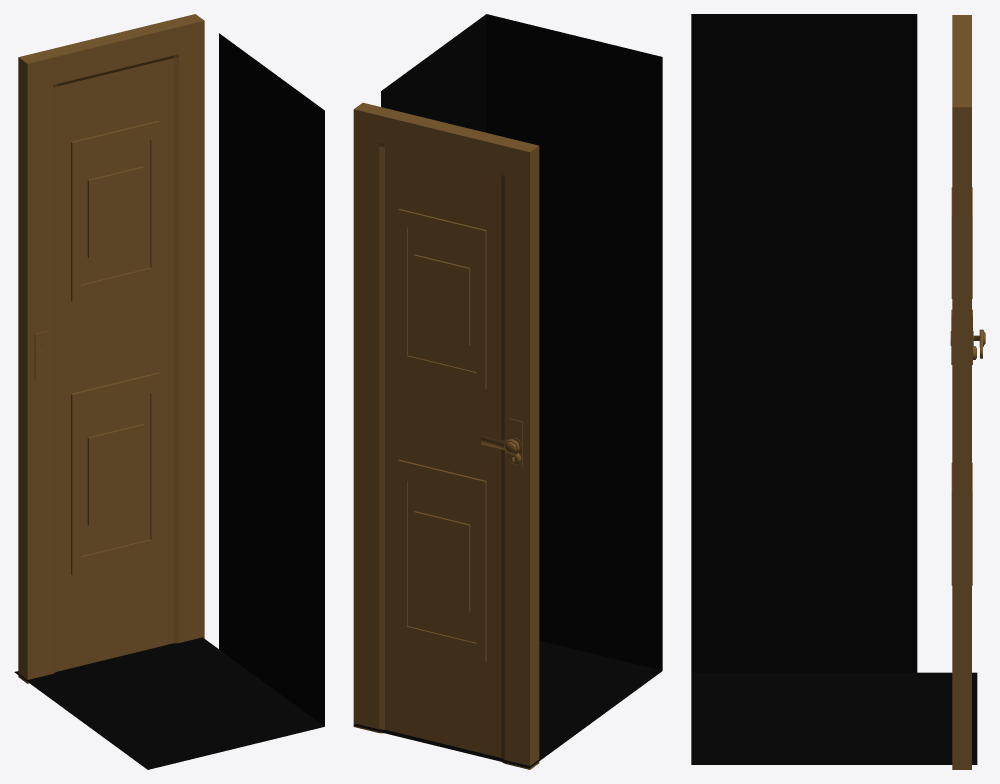
The model's file is NS_PorteSalon.glb.
3 views of the same model, side by side, from view 1: azimuth 30°, elevation 25°; view 2: azimuth 150°, elevation 25°; view 3: azimuth 270°, elevation 25° (orthographic). The views are drawn at different scales.
Visible parts, largest first — view 1: S_LowDoor, DoorBack; view 2: S_LowDoor, DoorBack; view 3: DoorBack, S_LowDoor.
Part boxes in pixels (bbox=[...]): S_LowDoor: bbox=[18, 14, 204, 683]; DoorBack: bbox=[14, 33, 324, 769]; S_LowDoor: bbox=[353, 102, 539, 769]; DoorBack: bbox=[353, 14, 662, 768]; DoorBack: bbox=[691, 14, 977, 764]; S_LowDoor: bbox=[950, 15, 973, 769].
Size of the model in its own units: 0.6661 by 2.21 by 0.8887.
